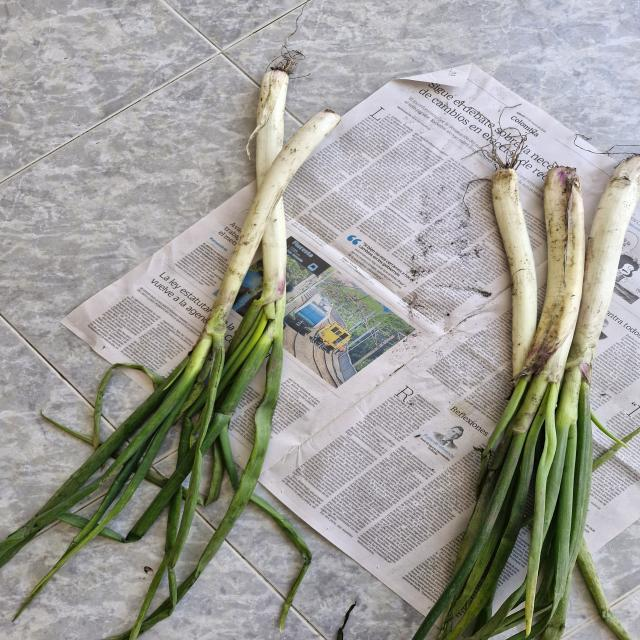green_onion: (0, 55, 377, 594), (473, 130, 640, 640)
